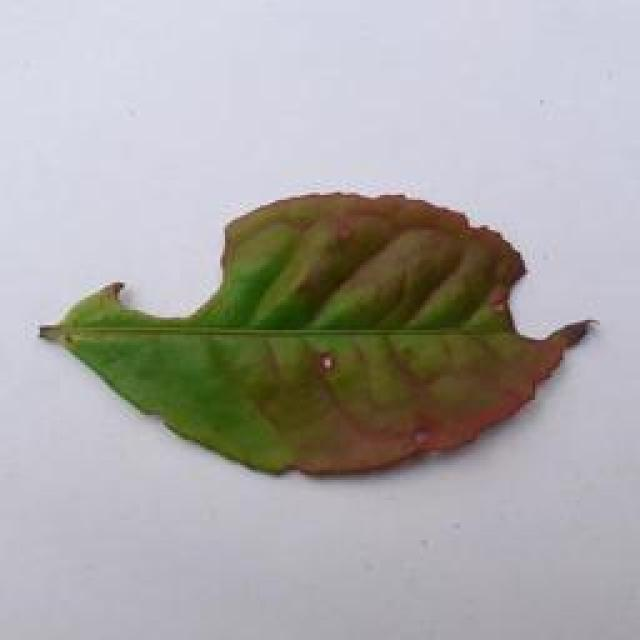Red Leaf Spot: (18, 178, 624, 490)
